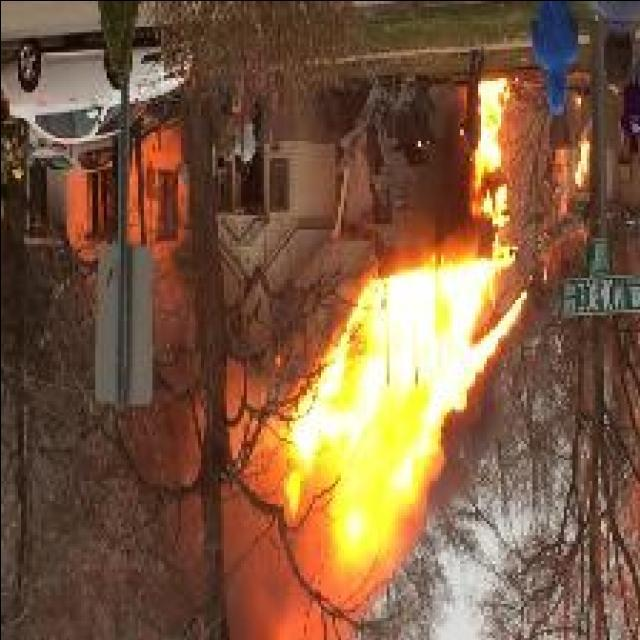Fire: (284, 238, 527, 572), (471, 77, 506, 192)
